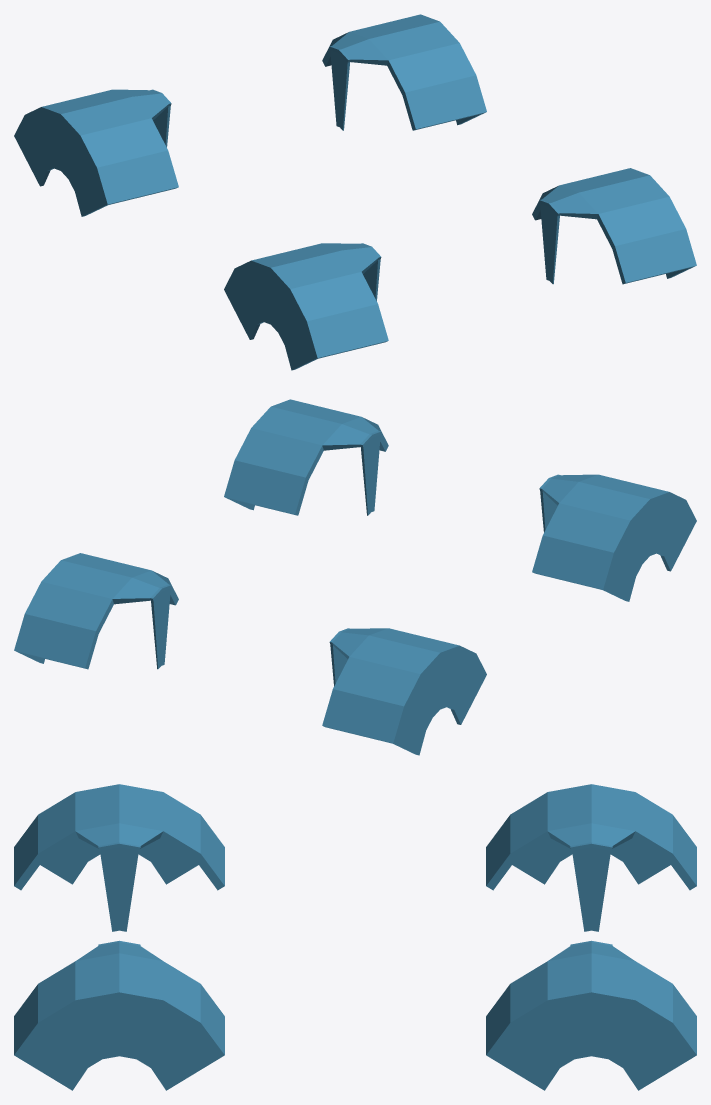
The model's file is wheelGuards3.glb.
3 renders of one model, top to bottom at view 1: azimuth 30°, elevation 25°; view 2: azimuth 150°, elevation 25°; view 3: azimuth 270°, elevation 25°, orthographic. The views are drawn at different scales.
Visible parts, largest first — view 1: wheelGuards3; view 2: wheelGuards3; view 3: wheelGuards3.
Boxes of the visible parts, x1,y1,x2,y2 form: wheelGuards3: [14, 14, 696, 370]; wheelGuards3: [14, 399, 696, 755]; wheelGuards3: [14, 784, 696, 1090].
Size of the model in its own units: 4.48 by 0.9878 by 6.21.
Materials: 1 (1 with a texture image).
